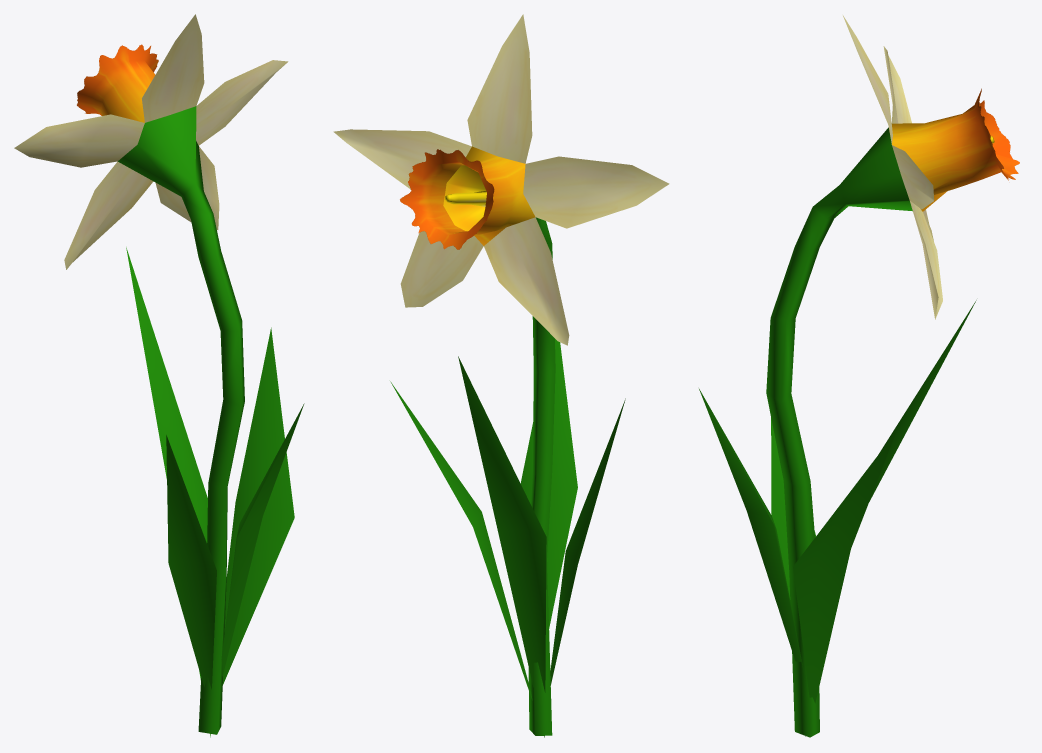
Rendered from Daffodil Stage 3.fbx.
3 views of the same model, side by side, from view 1: azimuth 30°, elevation 25°; view 2: azimuth 150°, elevation 25°; view 3: azimuth 270°, elevation 25° (orthographic). The views are drawn at different scales.
Parts seen in each view (by area): view 1: Daffodil_Stage_3; view 2: Daffodil_Stage_3; view 3: Daffodil_Stage_3.
Boxes of the visible parts, left/top/right/bottom form: Daffodil_Stage_3: left=14, top=14, right=304, bottom=737; Daffodil_Stage_3: left=333, top=14, right=669, bottom=737; Daffodil_Stage_3: left=699, top=15, right=1019, bottom=737.
Size of the model in its own units: 0.3849 by 0.8733 by 0.3591.
Materials: 2 (1 with a texture image).
